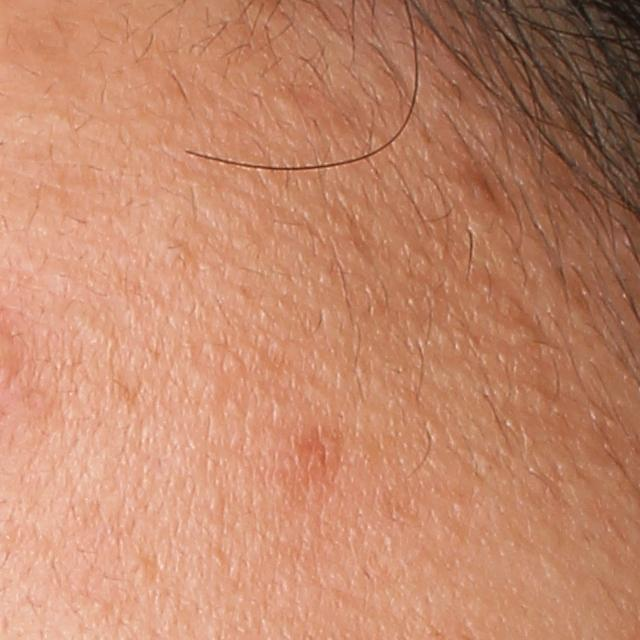comedo: (272, 86, 304, 119)
